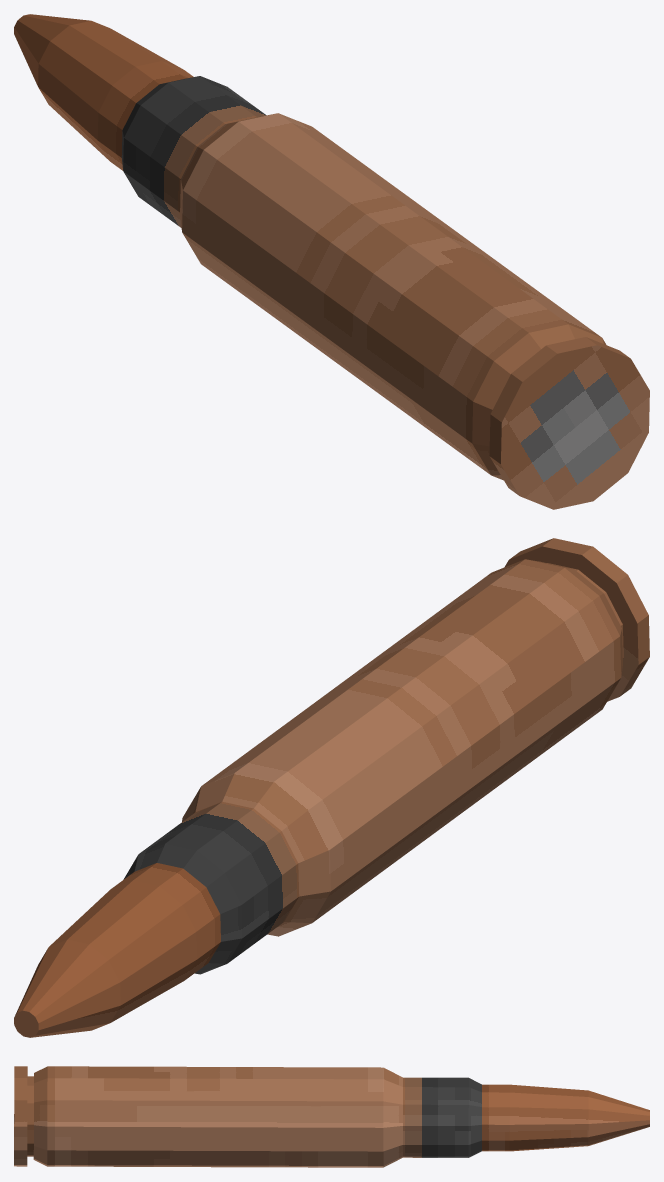
The model's file is bullet.gltf.
The picture shows the model from 3 angles, top to bottom: view 1: azimuth 30°, elevation 25°; view 2: azimuth 150°, elevation 25°; view 3: azimuth 270°, elevation 25°; orthographic projection. The views are drawn at different scales.
Parts seen in each view (by area): view 1: cylinder_0; view 2: cylinder_0; view 3: cylinder_0.
Boxes of the visible parts, left/top/right/bottom form: cylinder_0: left=14, top=14, right=649, bottom=509; cylinder_0: left=14, top=538, right=649, bottom=1037; cylinder_0: left=14, top=1066, right=649, bottom=1167.
Size of the model in its own units: 0.0948 by 0.0955 by 0.6033.
Materials: 1 (1 with a texture image).
